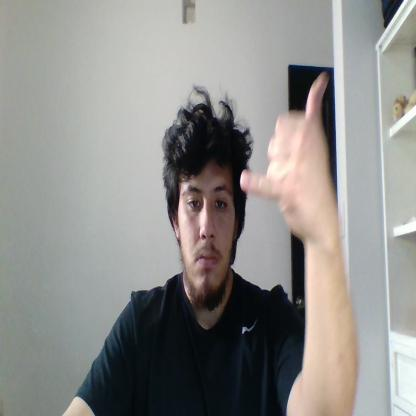Y: (239, 72, 336, 238)
